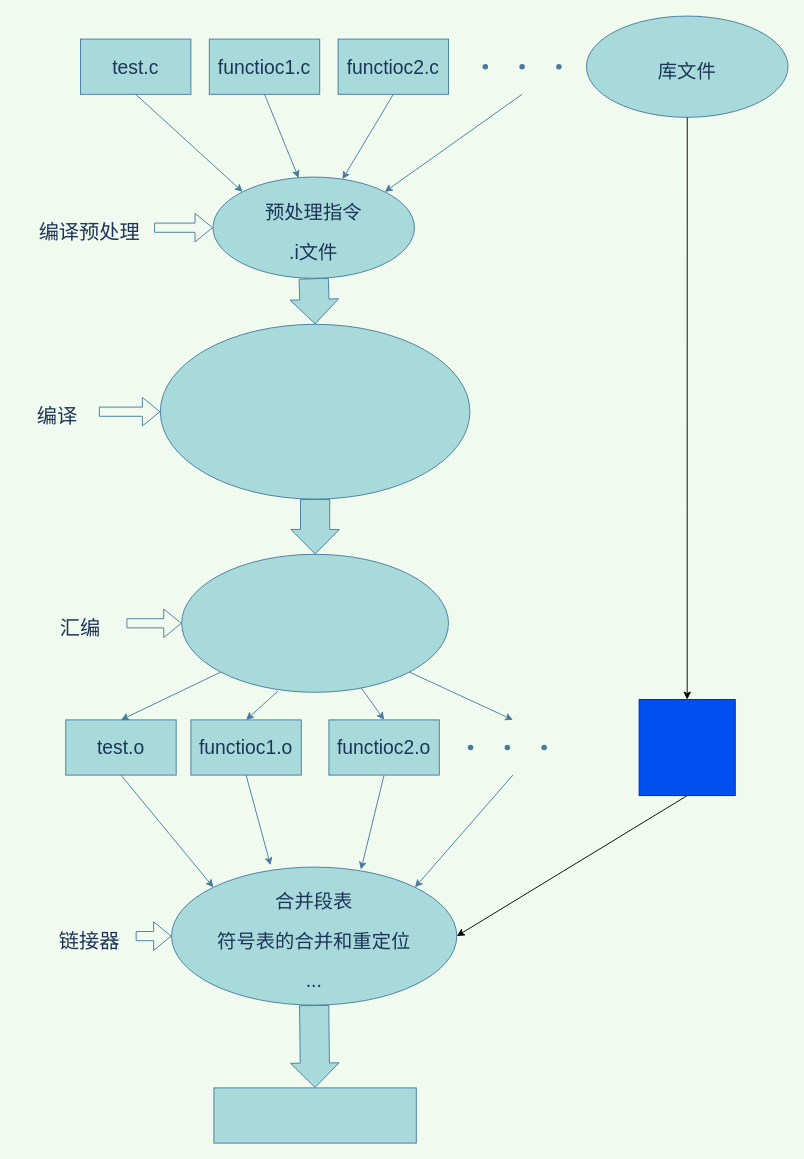
The diagram is 804 pixels wide and 1159 high, and some of its shapes have lost their labels. Each missing label, with the centre of its shape:
"可执行文件" belongs at (314,1115).
"生成符号表,翻译成机器指令 （二进制指令）,生成.o文件" belongs at (314,622).
"语法分析 词法分析 语义分析 符号汇总 翻译成汇编代码，生成.s文件" belongs at (314,411).
"隔离编译 一起链接" belongs at (686,747).
